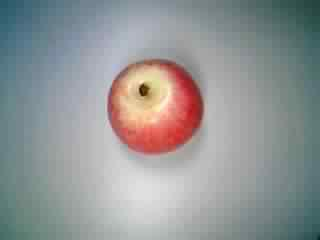apple: (100, 56, 205, 158)
